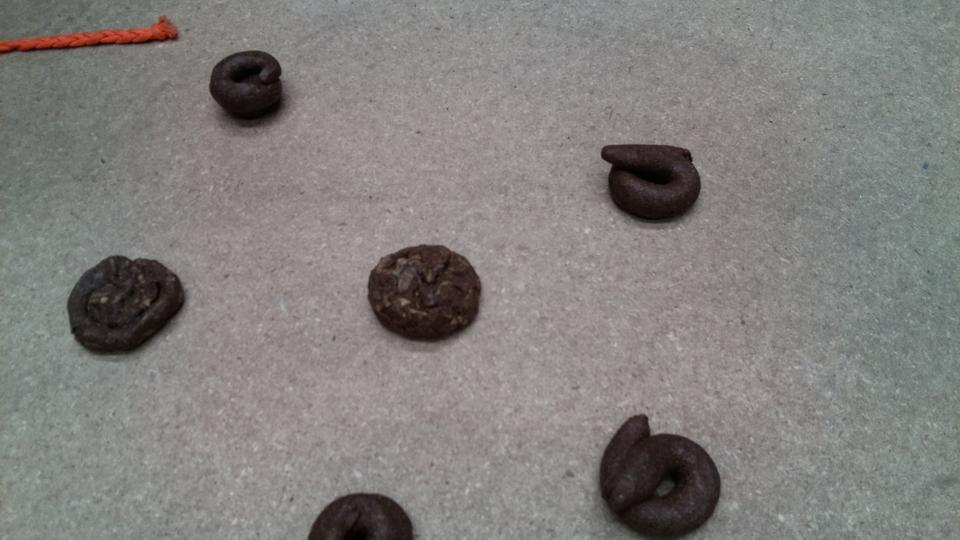poop: (595, 410, 725, 538), (65, 253, 187, 356), (366, 241, 484, 347), (600, 139, 702, 226), (205, 46, 285, 129), (302, 488, 423, 540)
rope: (1, 15, 180, 56)
